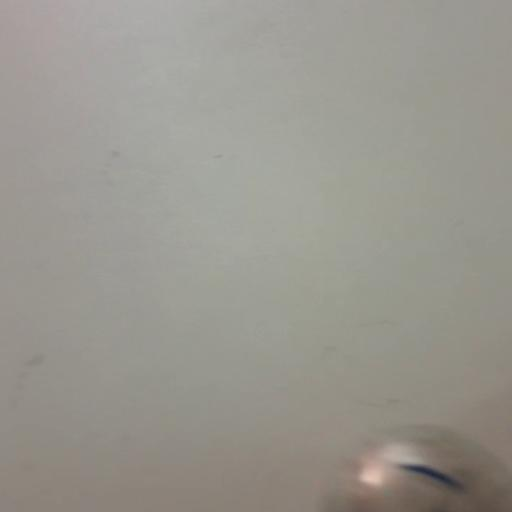alive: (320, 428, 510, 512)
